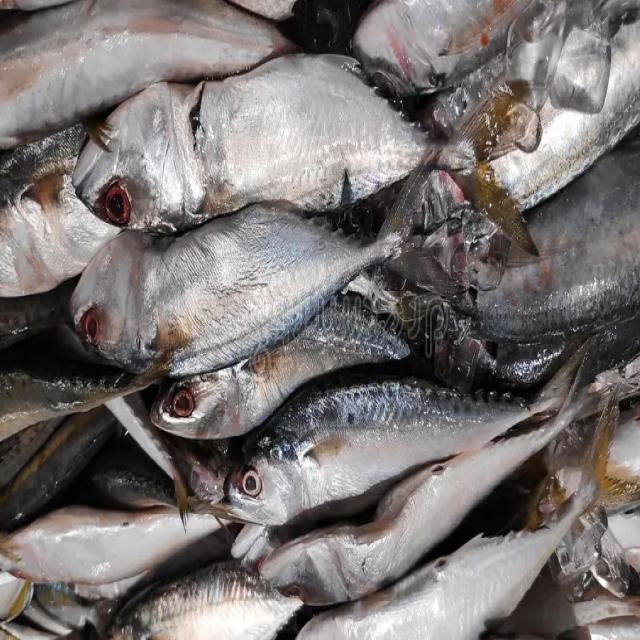Mackerel: (68, 48, 527, 247), (67, 158, 456, 383), (223, 363, 581, 529)
